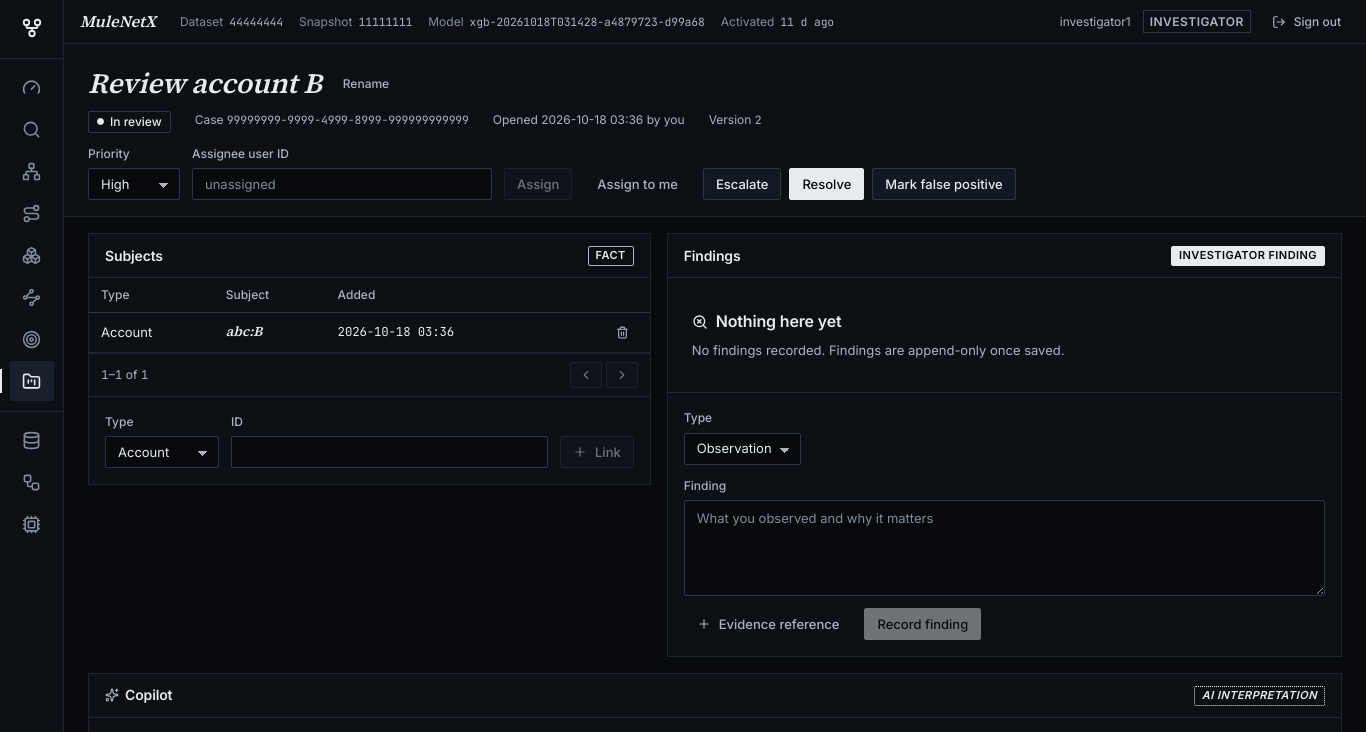
cases (T28) › shows a reload prompt on 409 CASE_VERSION_CONFLICT and reloads the latest version
Click the button "Escalate" at (742, 184), box [703,168,781,200]
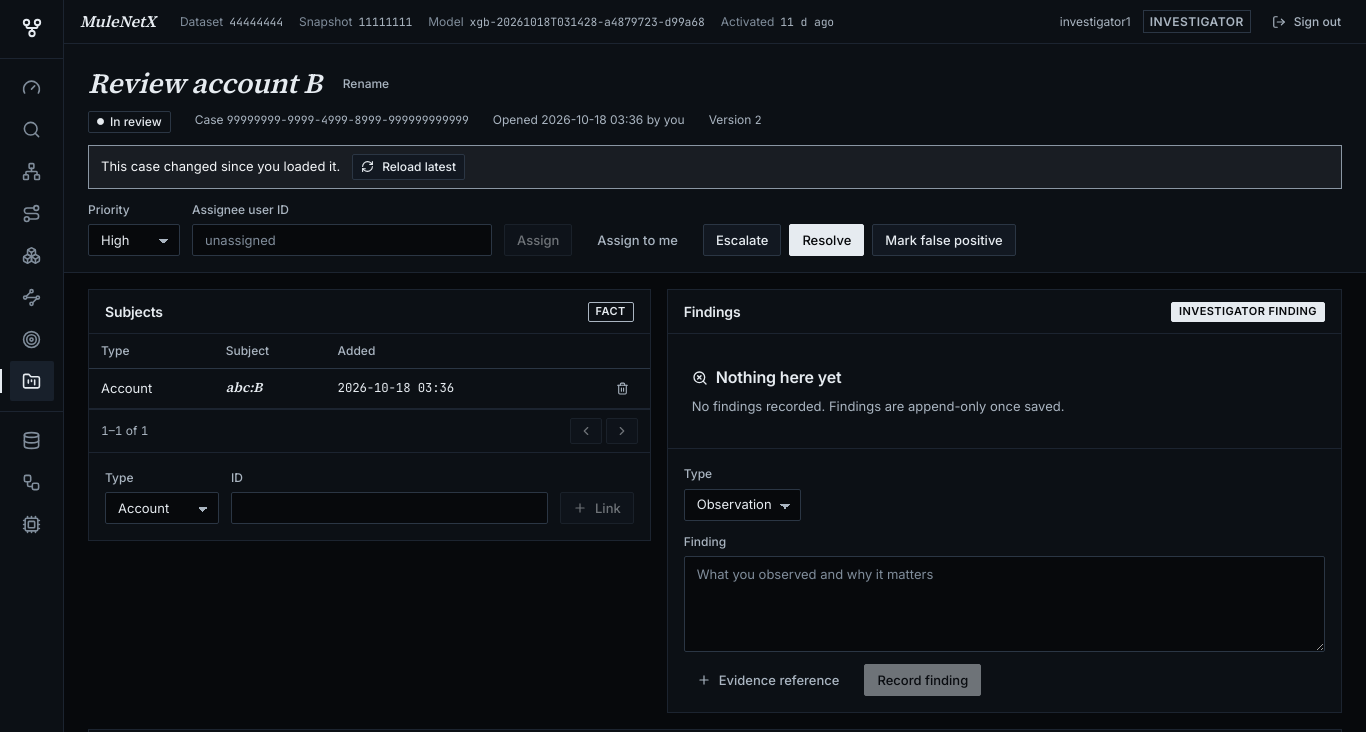
Expected: the message "This case changed since you loaded it. Reload latest" is shown, [88,145,1342,189]
Click the button "Reload latest" at (409, 167), box [352,154,465,180]
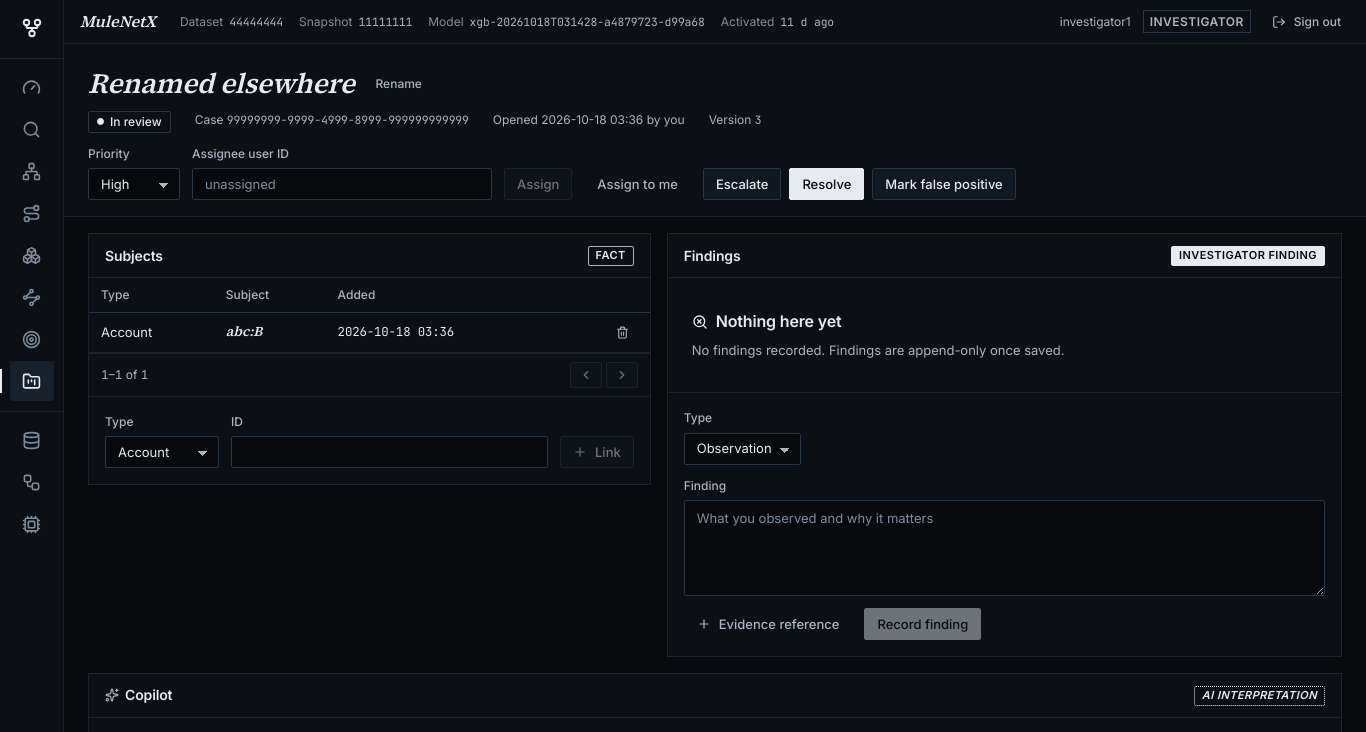
Expected: the heading "Renamed elsewhere" is shown, [88,68,354,99]
